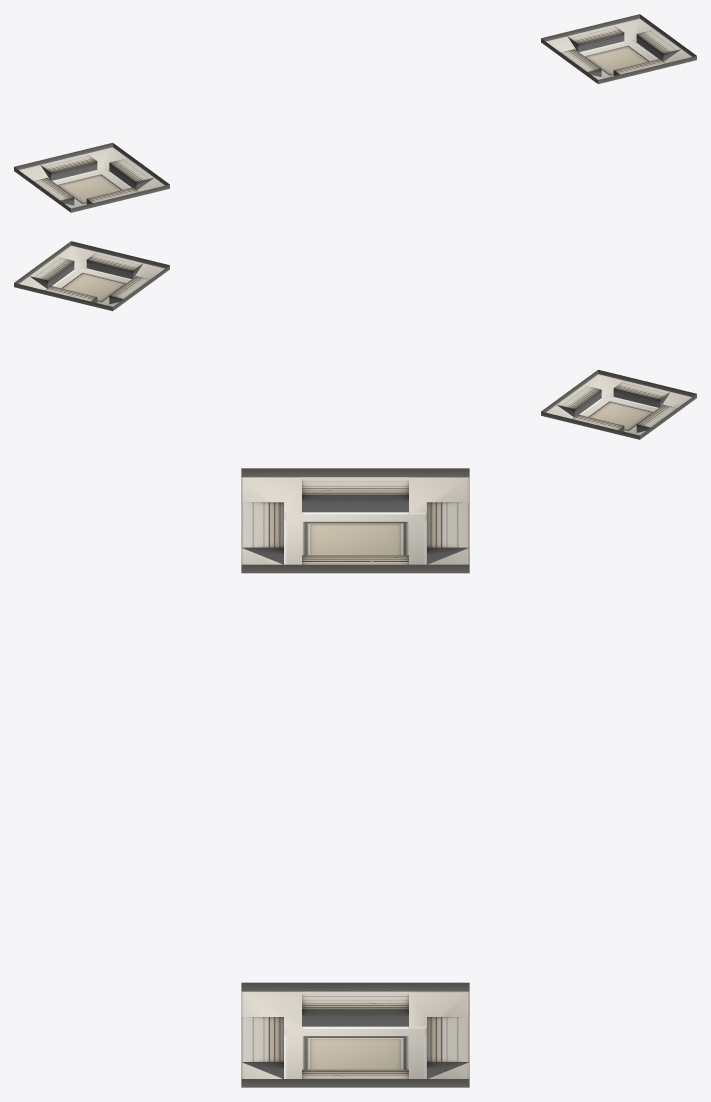
File: AirCon.fbx
3 renders of one model, top to bottom at view 1: azimuth 30°, elevation 25°; view 2: azimuth 150°, elevation 25°; view 3: azimuth 270°, elevation 25°, orthographic. The views are drawn at different scales.
Visible parts, largest first — view 1: Empty_Mesh; view 2: Empty_Mesh; view 3: Empty_Mesh.
Part boxes in pixels (x1,y1,x2,y2): Empty_Mesh: [14, 14, 696, 212]; Empty_Mesh: [14, 241, 696, 439]; Empty_Mesh: [241, 468, 469, 1087].
Size of the model in its own units: 726 by 15.08 by 115.
